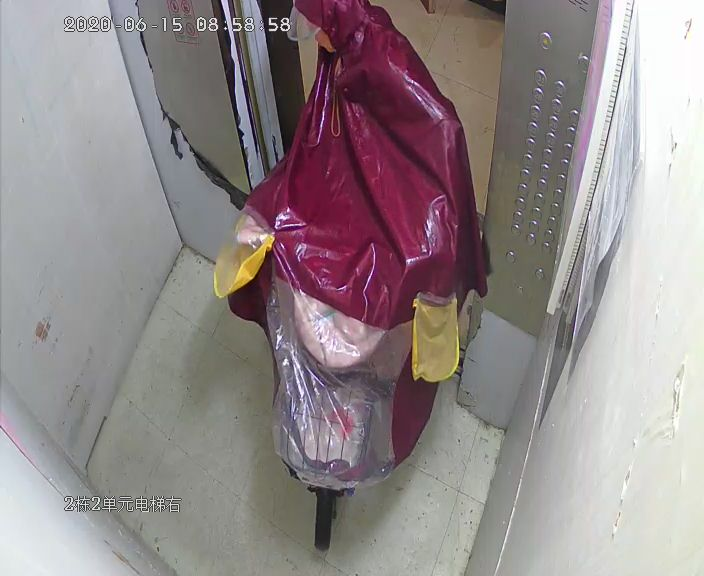Electric-bicycle: (222, 176, 472, 547)
